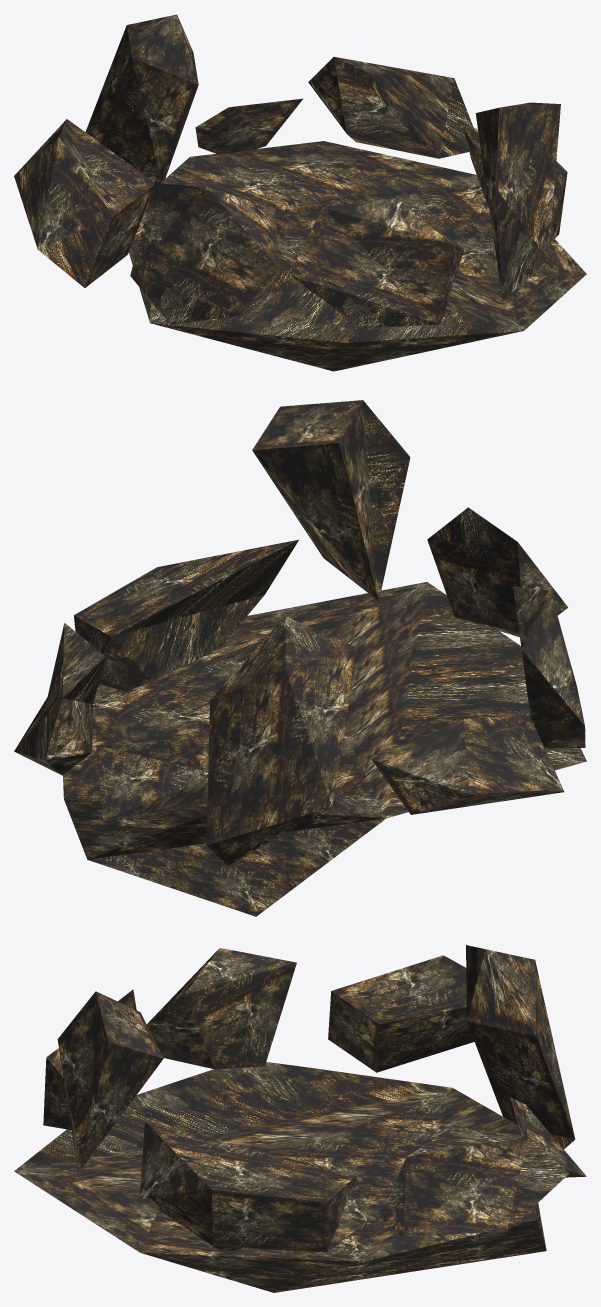
Rendered from poi_all_lair_firepit_l2.fbx.
The picture shows the model from 3 angles, top to bottom: view 1: azimuth 30°, elevation 25°; view 2: azimuth 150°, elevation 25°; view 3: azimuth 270°, elevation 25°; orthographic projection. The views are drawn at different scales.
Visible parts, largest first — view 1: mesh_node; view 2: mesh_node; view 3: mesh_node.
Boxes of the visible parts, x1,y1,x2,y2 form: mesh_node: (14,14,586,371); mesh_node: (14,400,586,916); mesh_node: (14,945,586,1292).
Size of the model in its own units: 2.49 by 1.43 by 2.68.
